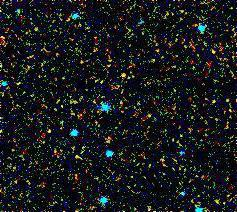star: (107, 61, 137, 91)
